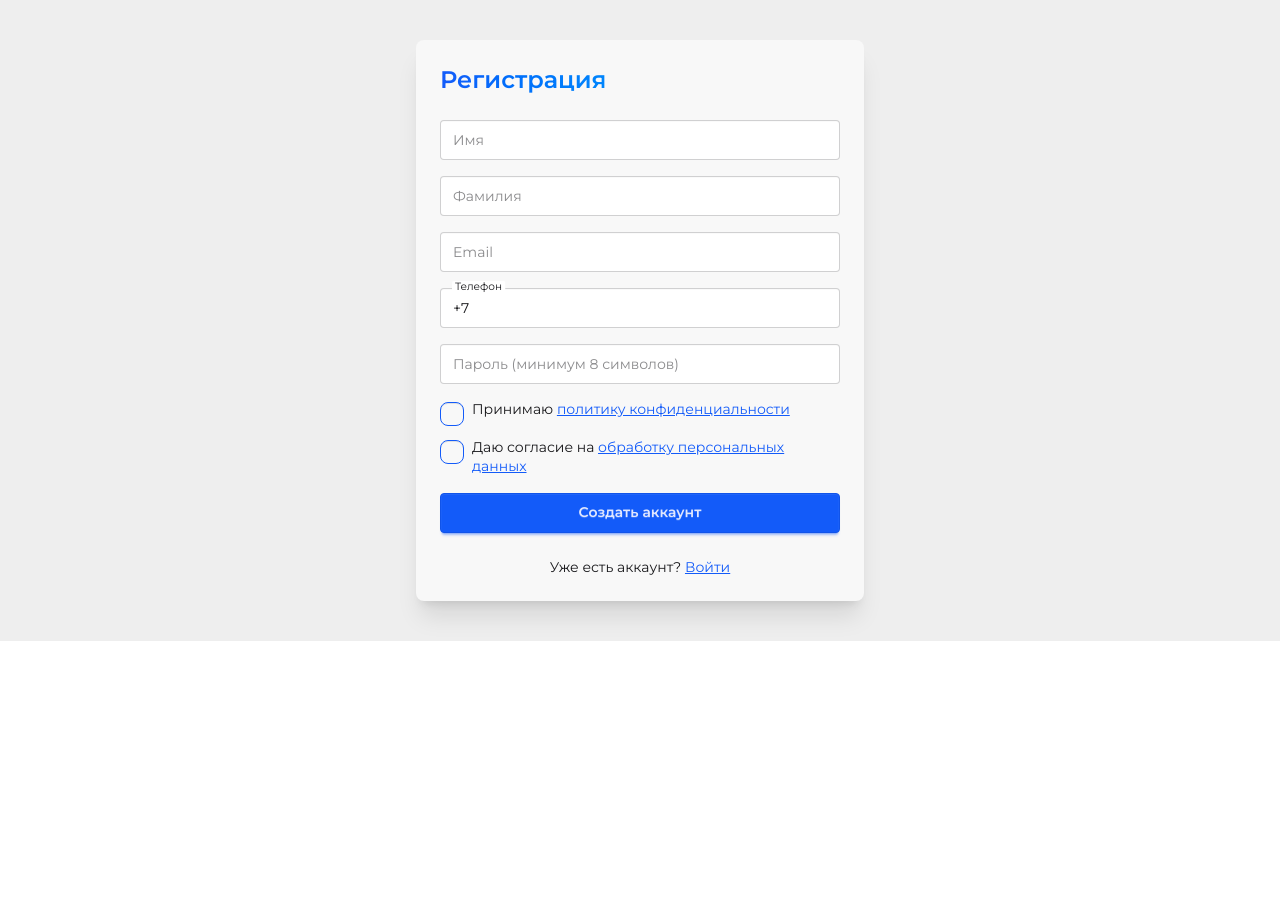
Scenario: RegisterPage › показывает ошибки чекбоксов при отправке без согласий
The width and height of the screenshot is (1280, 900).
Note: Заполняем все поля, но не ставим чекбоксы
Type "Тест" into the field with placeholder "Имя" at (640, 140), box [440,120,840,160]
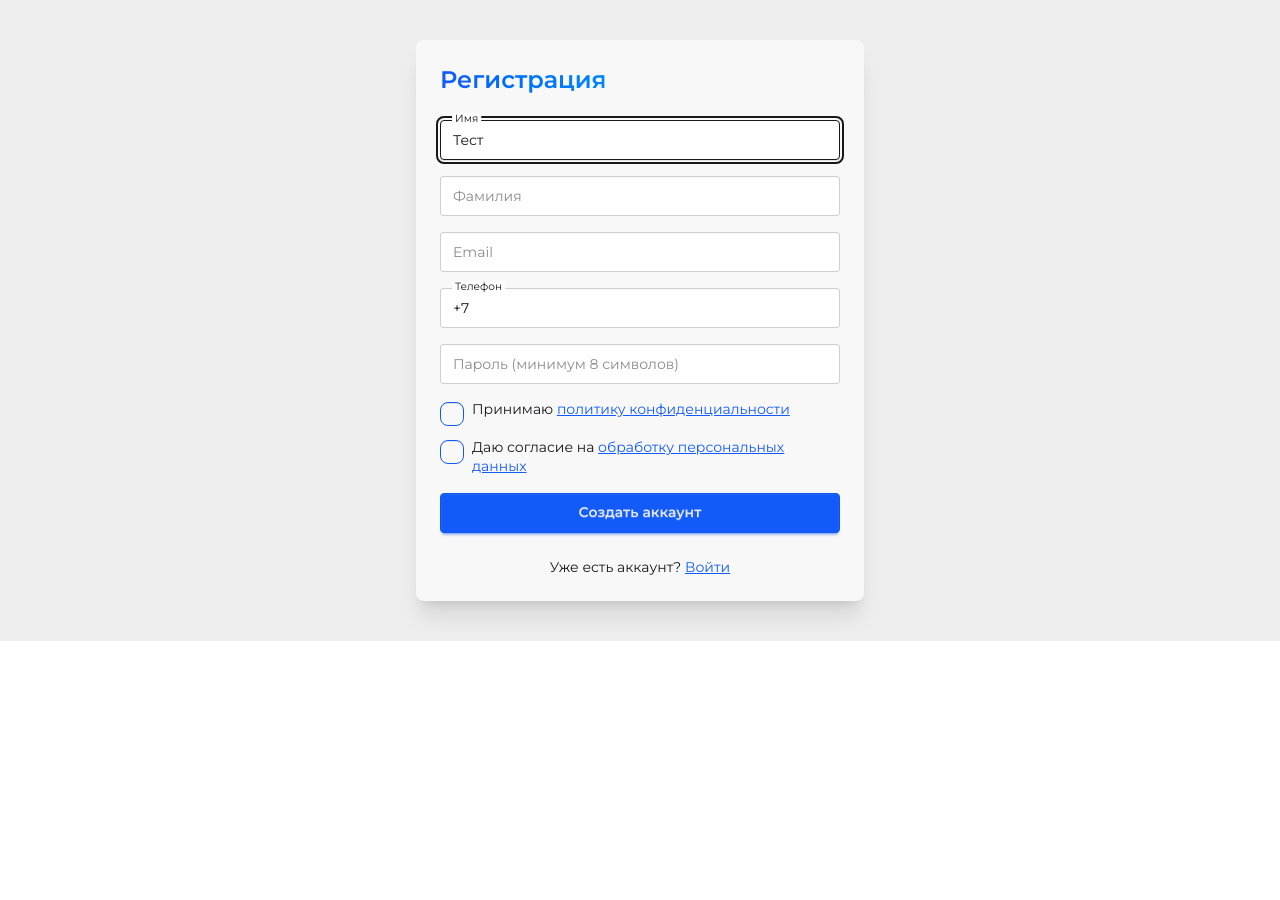
Type "Тестов" into the field with placeholder "Фамилия" at (640, 196), box [440,176,840,216]
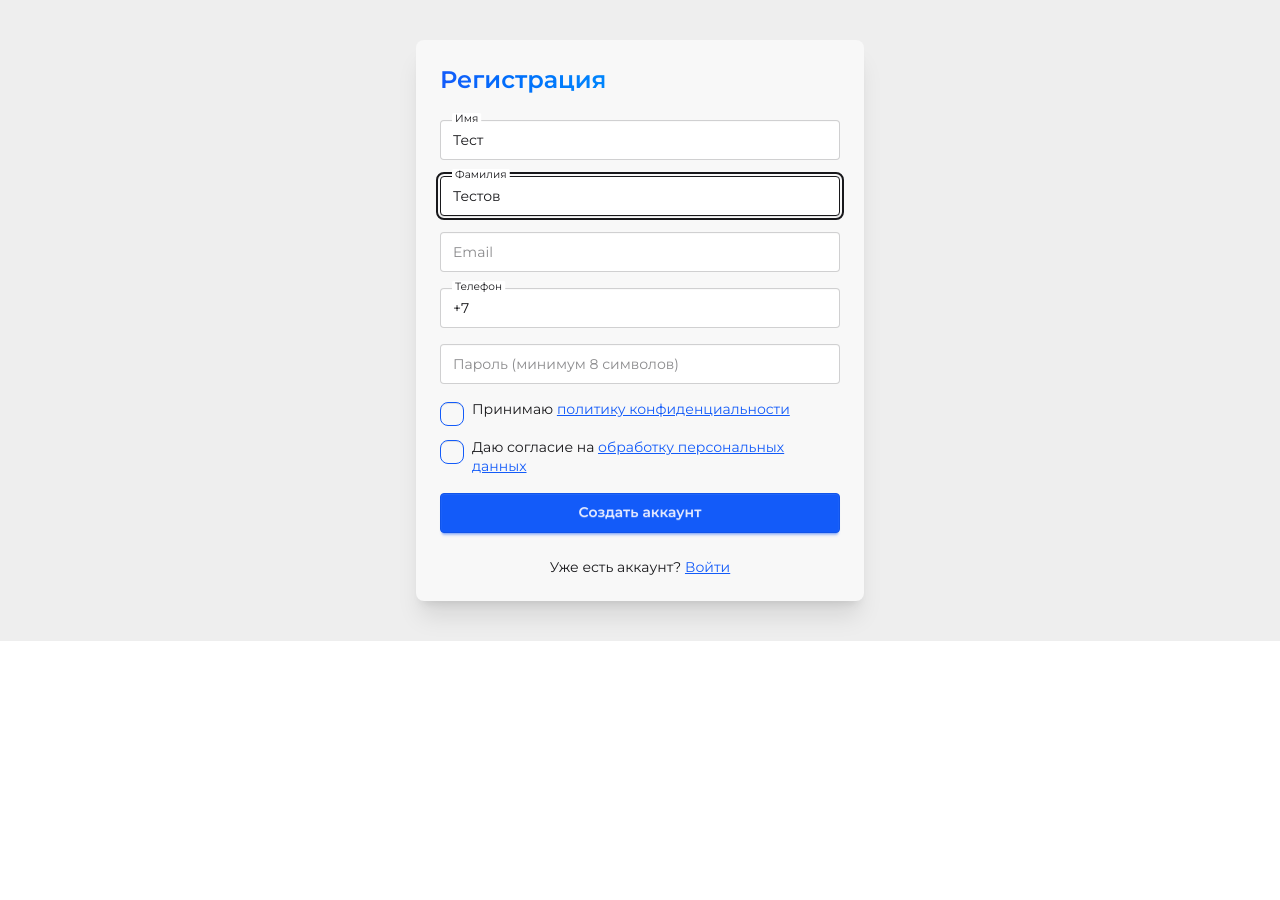
Type "test@mail.ru" into the field with placeholder "Email" at (640, 252), box [440,232,840,272]
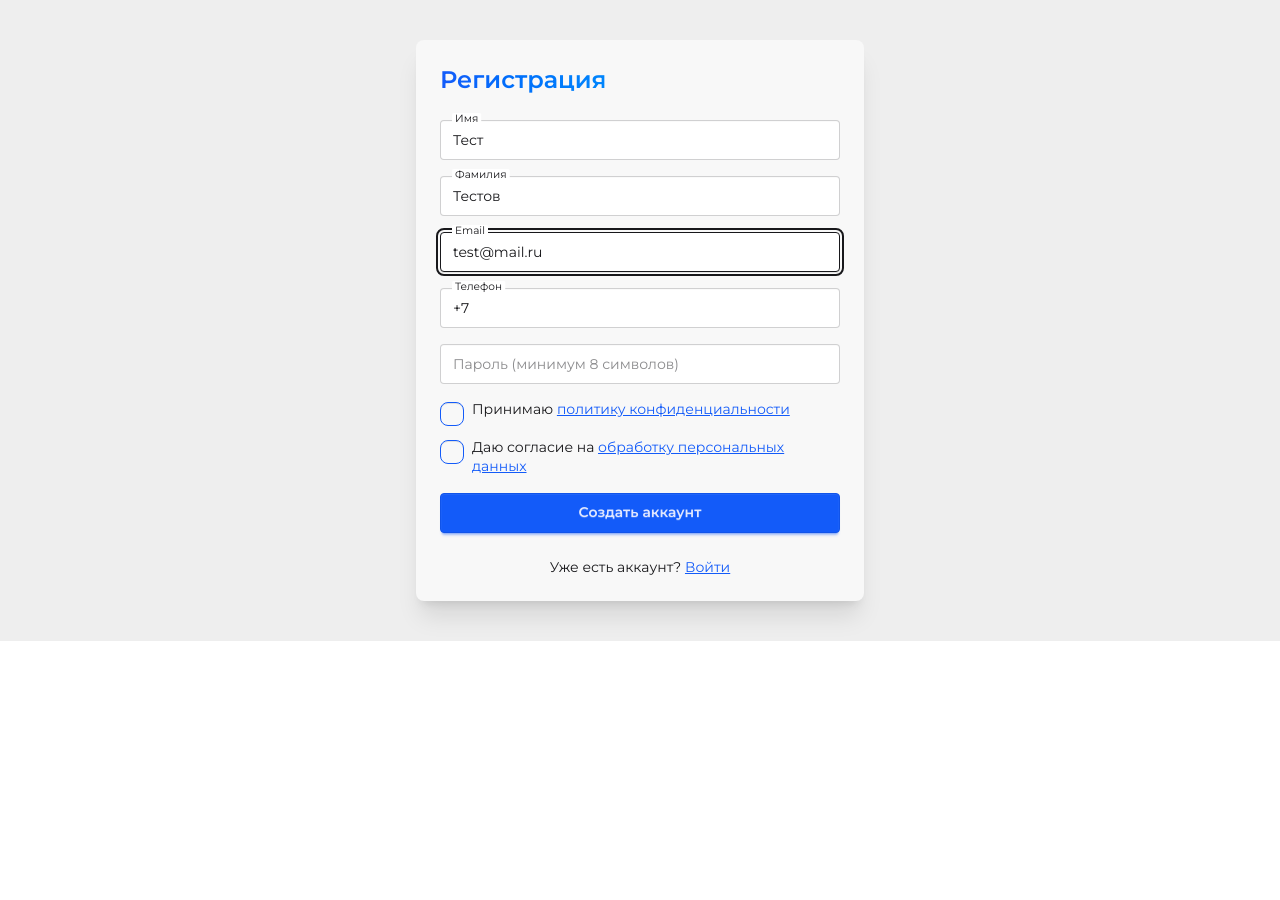
Type "9991234567" into the field with placeholder "+7 999 999-99-99" at (640, 308), box [440,288,840,328]
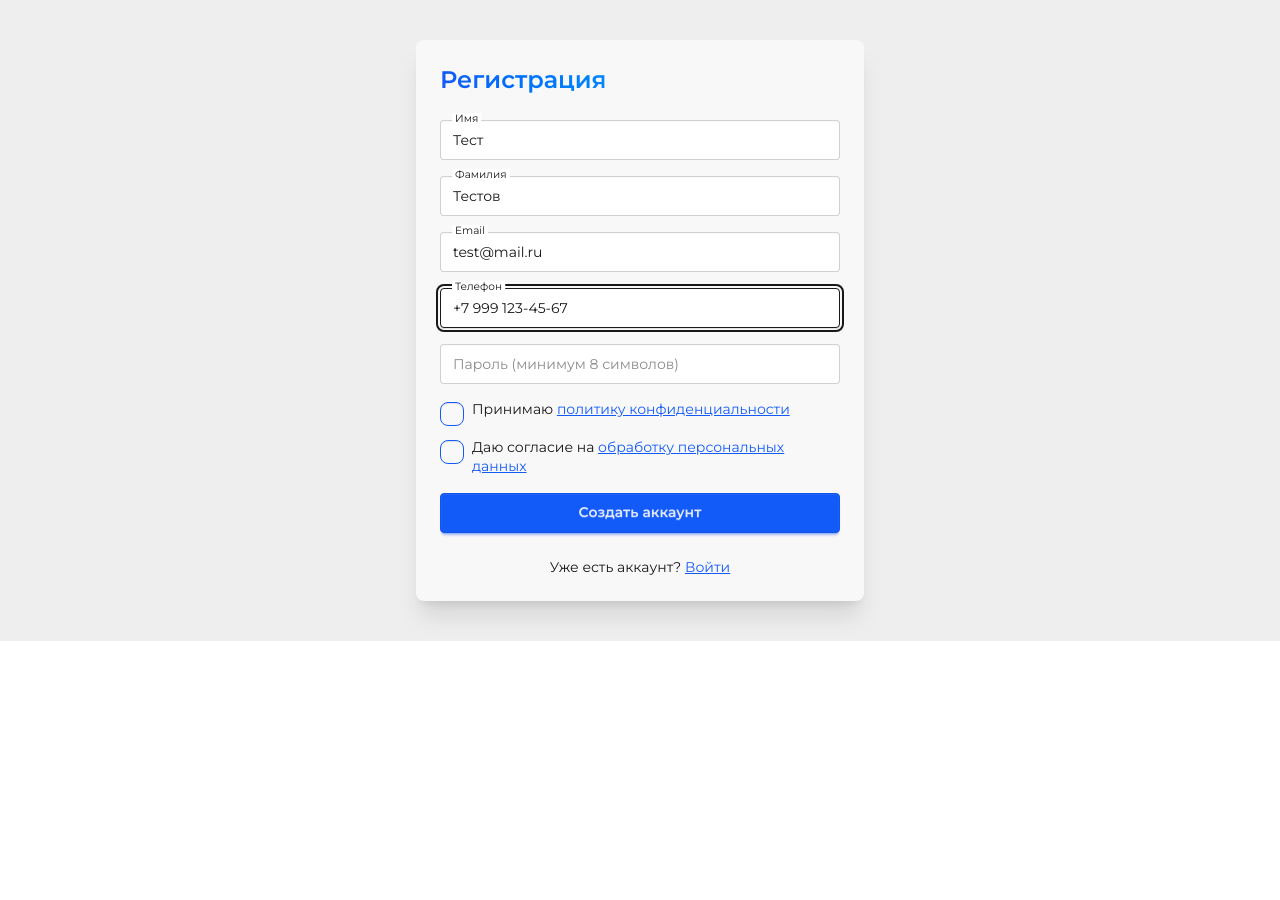
Type "password123" into the password field with placeholder "Пароль (минимум 8 символов)" at (640, 364), box [440,344,840,384]
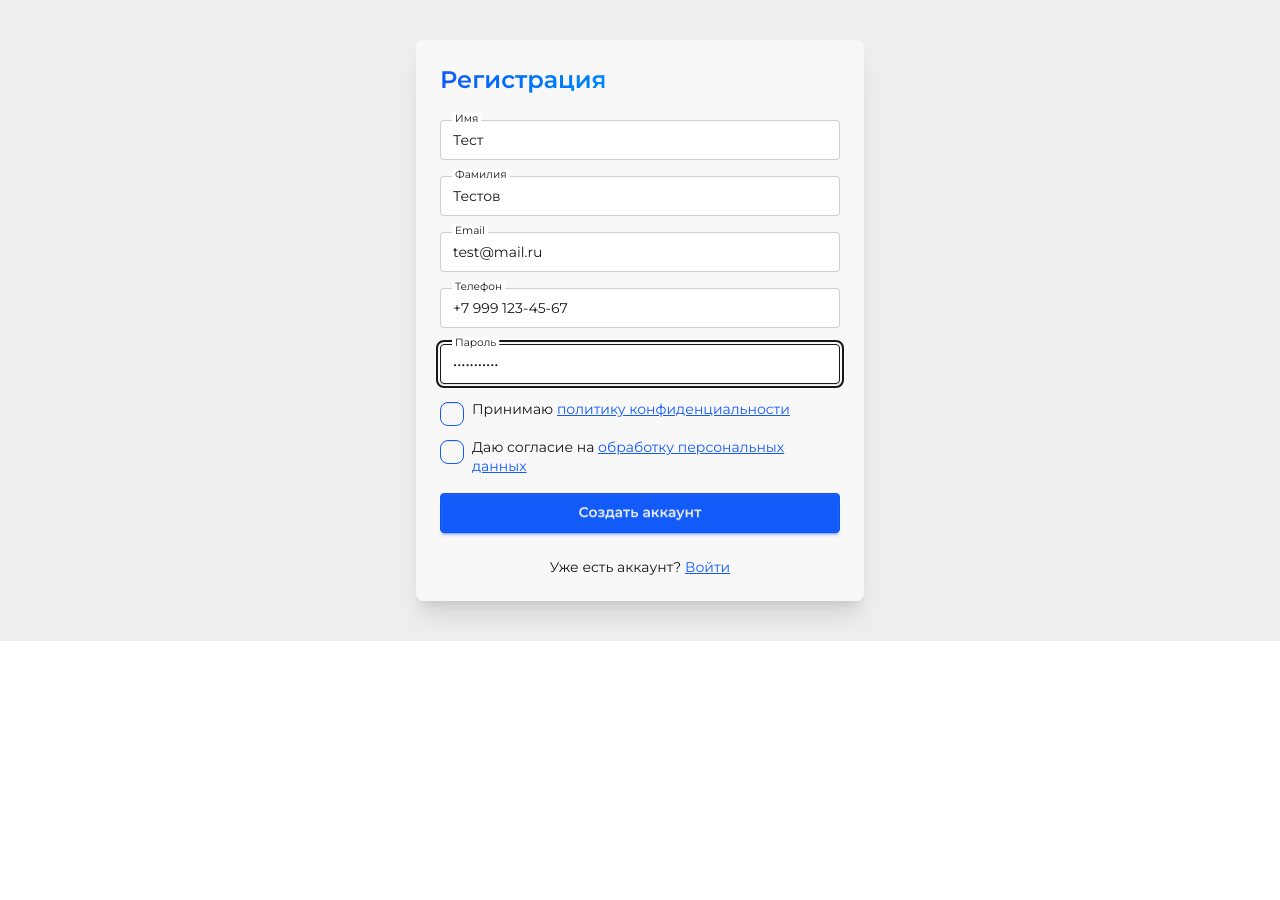
Click the button "Создать аккаунт" at (640, 512), box [440,492,840,532]
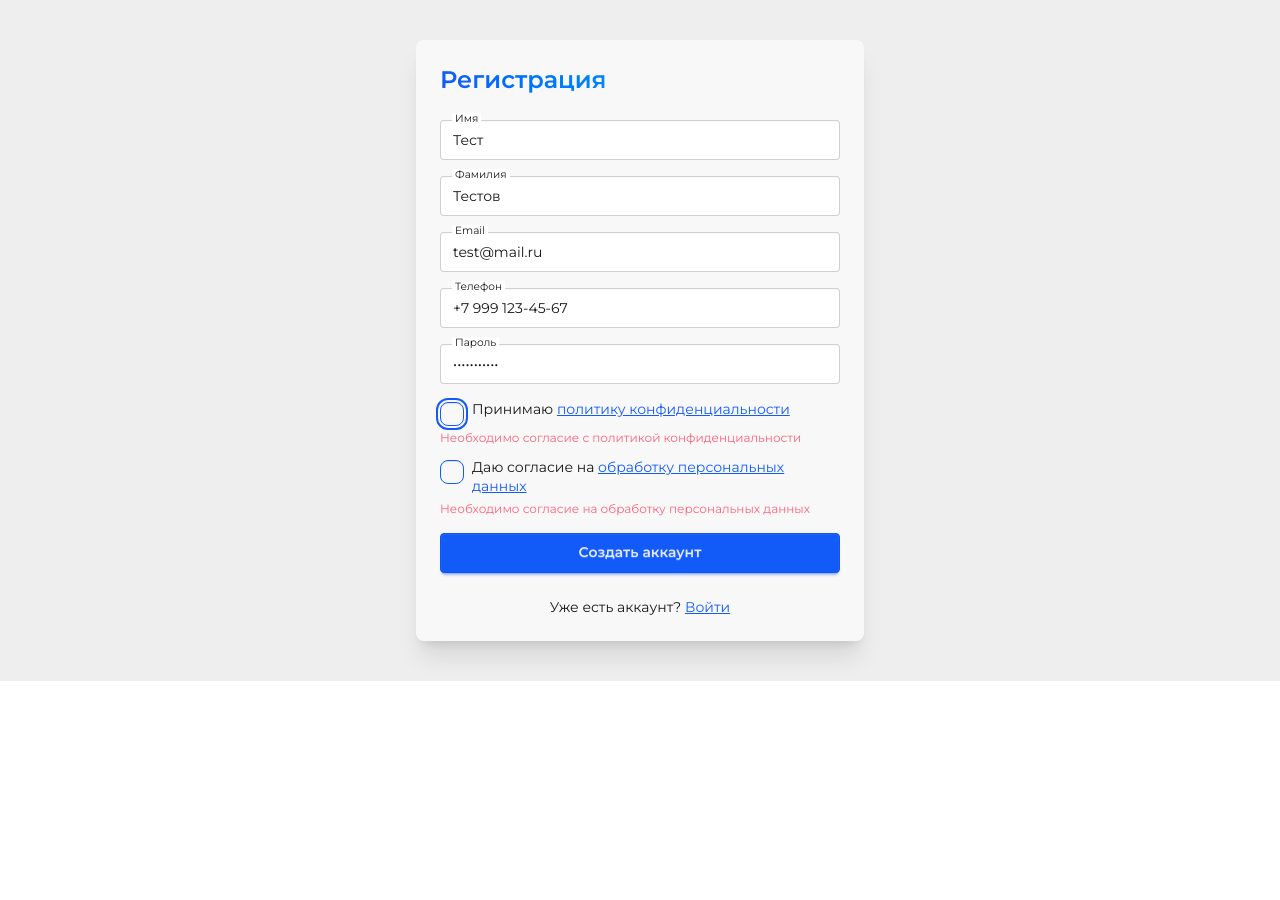
Expected: the text "Необходимо согласие с политикой конфиденциальности" is shown, [440,430,840,446]
Expected: the text "Необходимо согласие на обработку персональных данных" is shown, [440,500,840,516]
